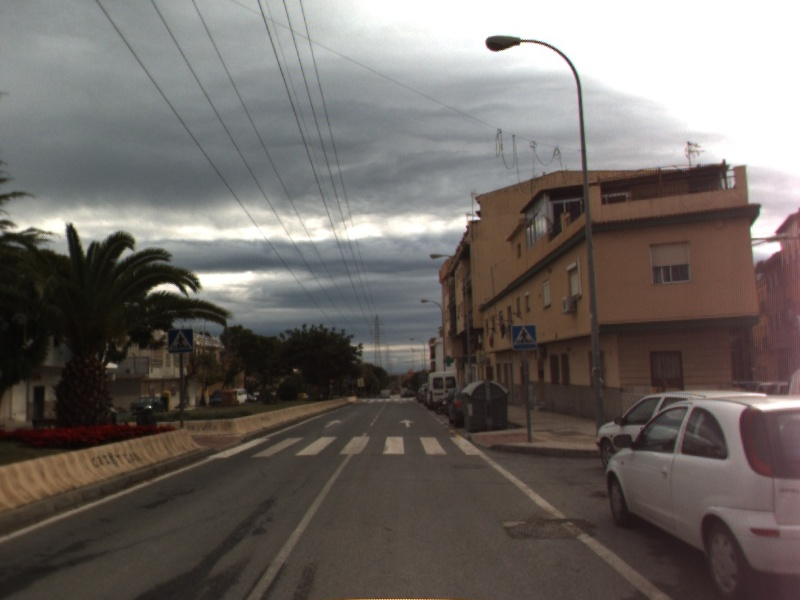STRAIGHT: (322, 417, 344, 430), (397, 417, 417, 429)
